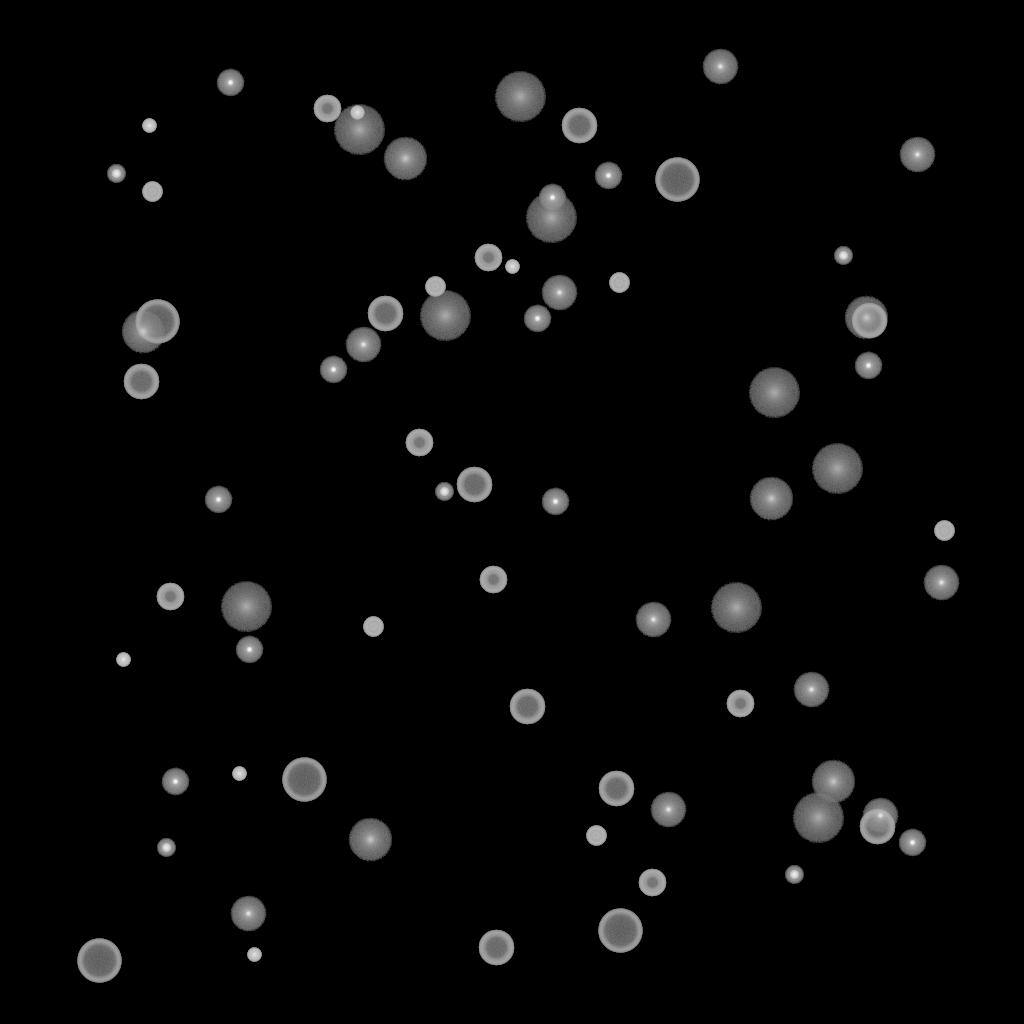depth:-10: (898, 829, 926, 857), (216, 69, 244, 97), (235, 636, 263, 664), (538, 184, 566, 212), (594, 162, 622, 190), (204, 486, 232, 514), (161, 768, 189, 796), (854, 352, 882, 380), (523, 305, 551, 333), (541, 488, 569, 516), (319, 356, 347, 384)
depth:-20: (834, 247, 852, 265), (107, 165, 125, 183), (435, 483, 453, 501), (785, 866, 803, 884), (157, 839, 175, 857)
depth:-30: (505, 260, 519, 274), (116, 653, 130, 667), (142, 119, 156, 133), (247, 948, 261, 962), (232, 767, 246, 781), (350, 106, 364, 120)
depth:-40: (934, 521, 954, 541), (586, 826, 606, 846), (609, 273, 629, 293), (142, 182, 162, 202), (425, 277, 445, 297), (363, 617, 383, 637)
depth:-50: (474, 244, 502, 272), (313, 95, 341, 123), (638, 869, 666, 897), (479, 566, 507, 594), (726, 690, 754, 718), (156, 583, 184, 611), (405, 429, 433, 457)
depth:-60: (561, 108, 597, 144), (478, 930, 514, 966), (456, 467, 492, 503), (367, 296, 403, 332), (851, 303, 887, 339), (598, 771, 634, 807), (509, 689, 545, 725), (123, 364, 159, 400), (859, 809, 895, 845)
depth:-70: (598, 909, 642, 953), (77, 939, 121, 983), (282, 758, 326, 802), (135, 300, 179, 344), (655, 158, 699, 202)
depth:0: (793, 672, 829, 708), (923, 565, 959, 601), (541, 275, 577, 311), (230, 896, 266, 932), (635, 602, 671, 638), (345, 327, 381, 363), (899, 137, 935, 173), (862, 798, 898, 834), (702, 49, 738, 85), (650, 792, 686, 828)
depth:10: (811, 760, 855, 804), (348, 818, 392, 862), (844, 296, 888, 340), (383, 137, 427, 181), (121, 310, 165, 354), (749, 477, 793, 521)
depth:20: (333, 105, 385, 155), (419, 291, 471, 341), (220, 582, 272, 632), (792, 793, 844, 843), (811, 444, 863, 494), (494, 72, 546, 122), (525, 193, 577, 243), (748, 368, 800, 418), (710, 583, 762, 633)
